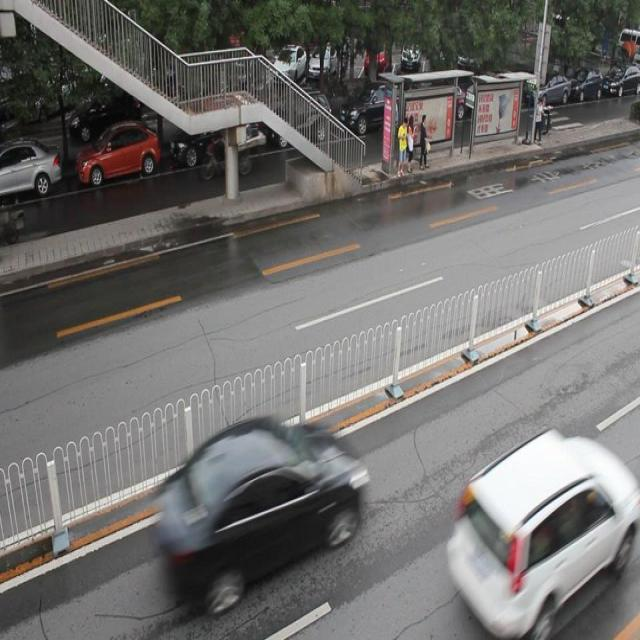car: (445, 428, 630, 640), (154, 419, 366, 598), (74, 118, 160, 184), (169, 99, 257, 162), (264, 90, 330, 148), (341, 79, 408, 133), (1, 136, 59, 197)
